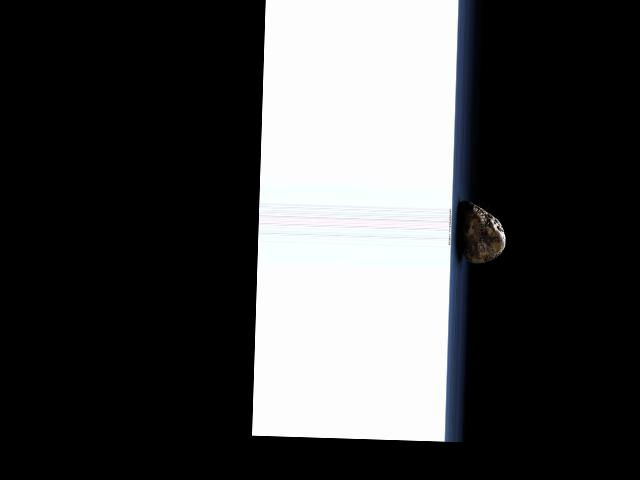beet: (458, 201, 506, 265)
